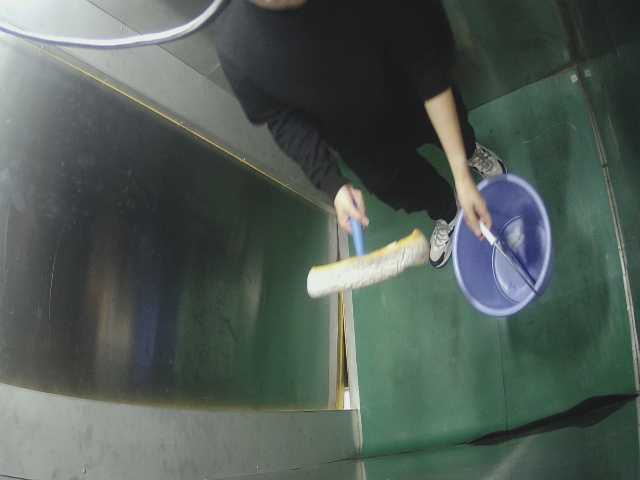bucket: (443, 172, 558, 324)
person: (188, 1, 532, 195)
